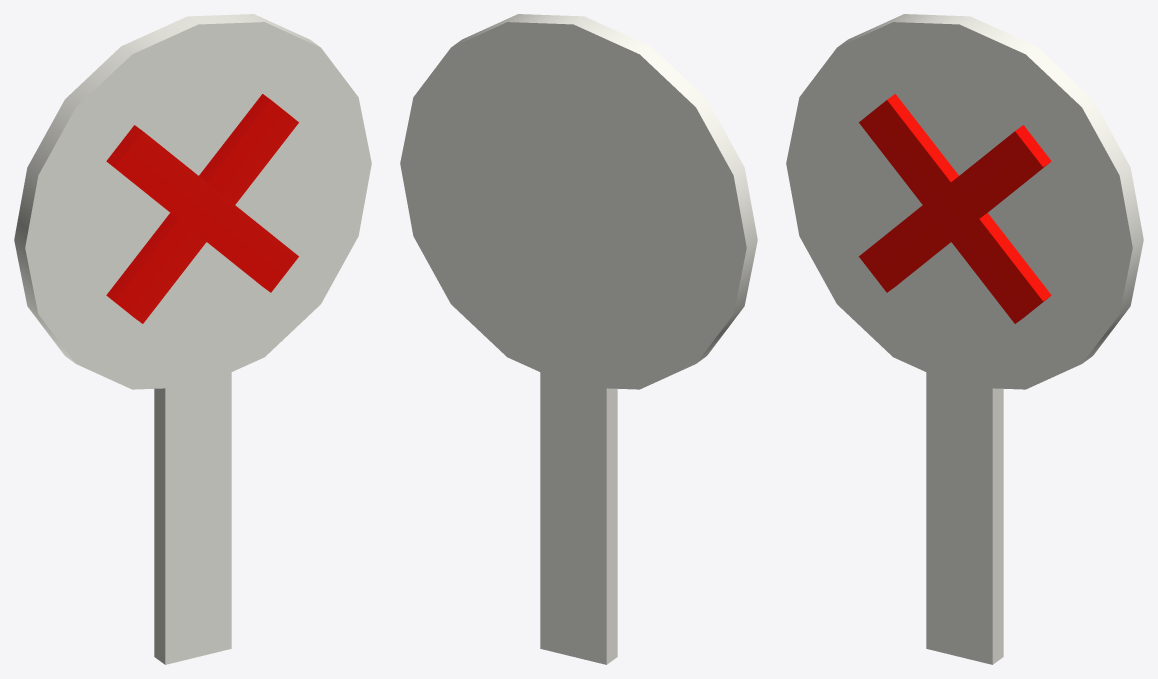
File: dodam_Prop_sign_X.fbx
3 renders of one model, left to right at view 1: azimuth 30°, elevation 25°; view 2: azimuth 150°, elevation 25°; view 3: azimuth 330°, elevation 25°, orthographic.
Visible parts, largest first — view 1: dodam_SIGN_x; view 2: dodam_SIGN_x; view 3: dodam_SIGN_x.
Boxes of the visible parts, bbox=[...] form: dodam_SIGN_x: bbox=[14, 14, 371, 664]; dodam_SIGN_x: bbox=[400, 14, 757, 664]; dodam_SIGN_x: bbox=[786, 14, 1143, 664].
Size of the model in its own units: 23.58 by 41.11 by 2.3.
1 material, 1 textured.
